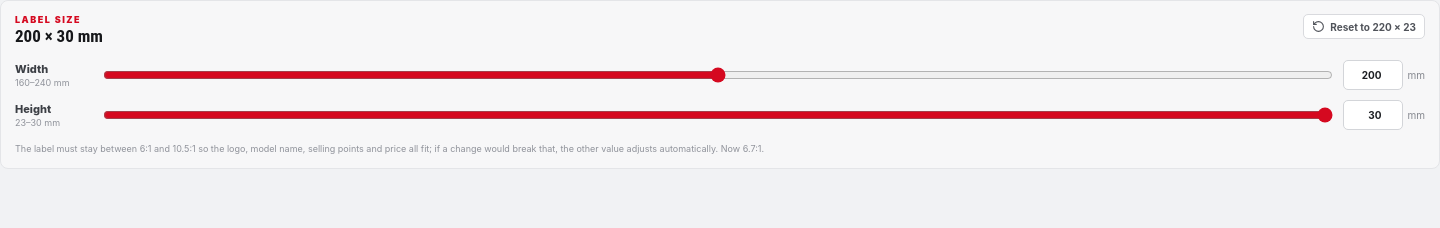
Test: label size controls › clears the notice and returns to 220 × 23 mm on reset
This screenshot has width=1440, height=228.
Set the slider named "Width slider" to "170" at (263, 75), box [103,67,1333,83]
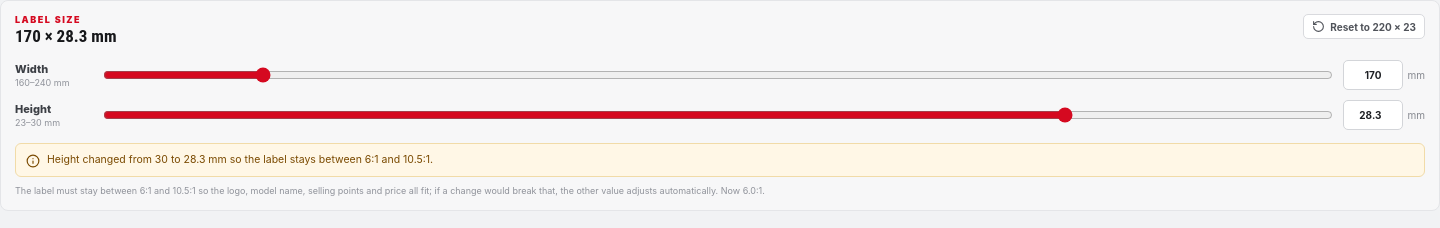
expect the message "Height changed from 30 to 28.3 mm so the label stays between 6:1 and 10.5:1." is shown: met, box [15,143,1425,177]
Click the button "Reset to 220 × 23" at (1364, 26), box [1303,14,1425,39]
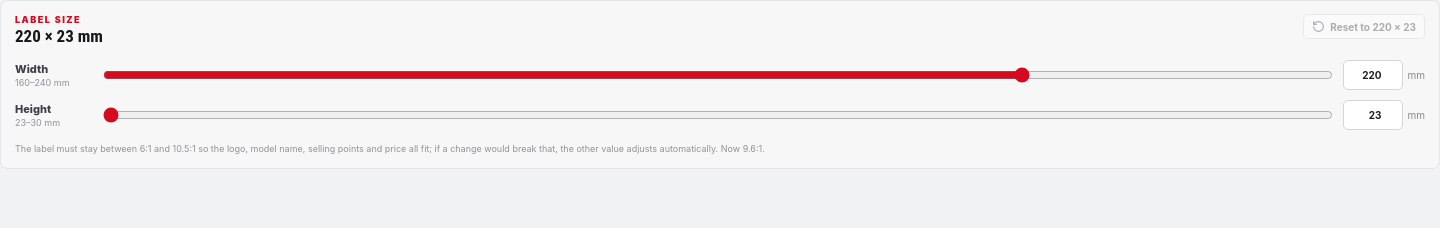
expect the message "Height changed from 30 to 28.3 mm so the label stays between 6:1 and 10.5:1." is gone: met
expect the number field named "Width in millimetres" holds "220": met, box [1343,60,1404,90]
expect the number field named "Height in millimetres" holds "23": met, box [1343,100,1404,130]
